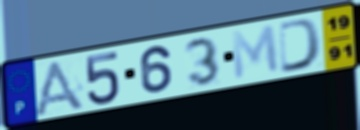3: (183, 35, 223, 87)
5: (82, 49, 121, 107)
6: (139, 44, 175, 96)
A: (30, 57, 89, 117)
D: (277, 16, 324, 75)
M: (229, 23, 282, 83)
